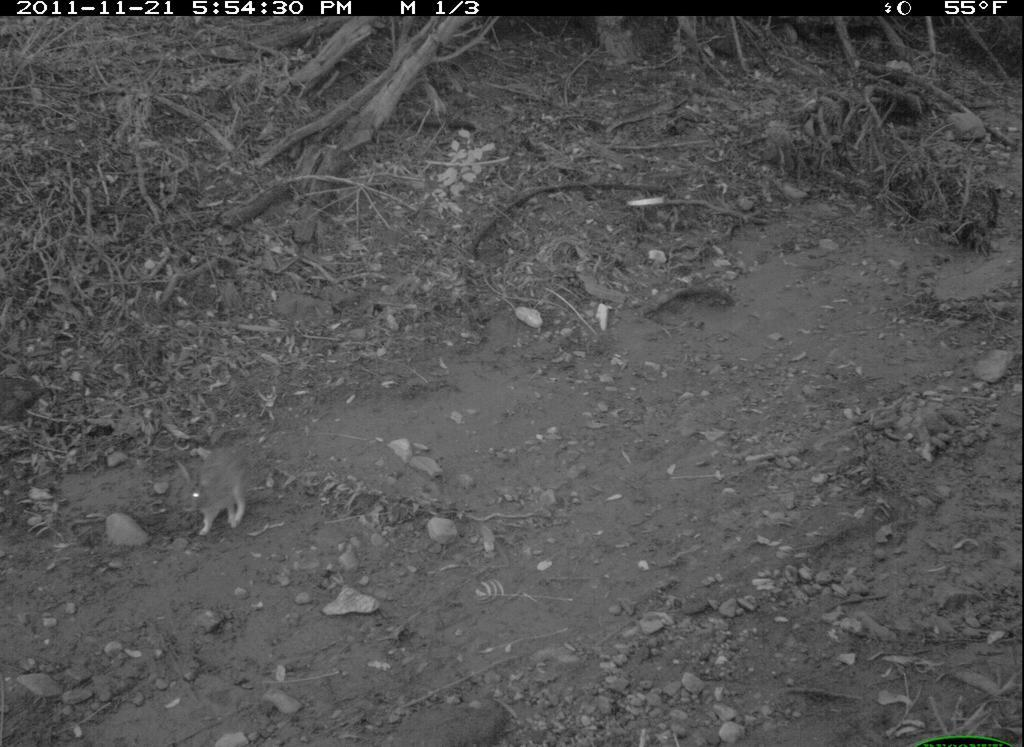rabbit: (164, 438, 268, 543)
